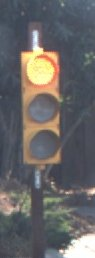Red: (9, 38, 63, 176)
